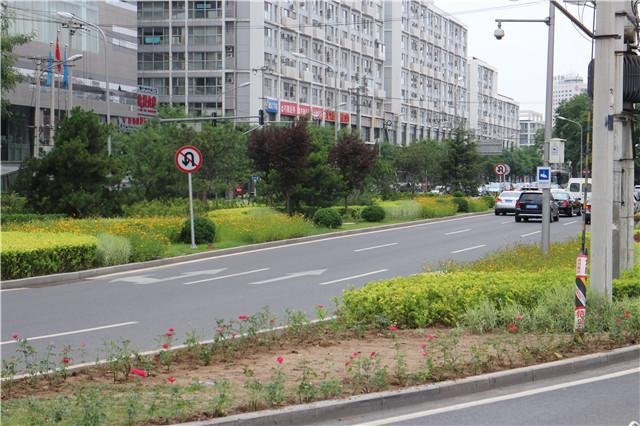not_u_turn_left: (175, 146, 203, 174), (494, 162, 506, 176)
